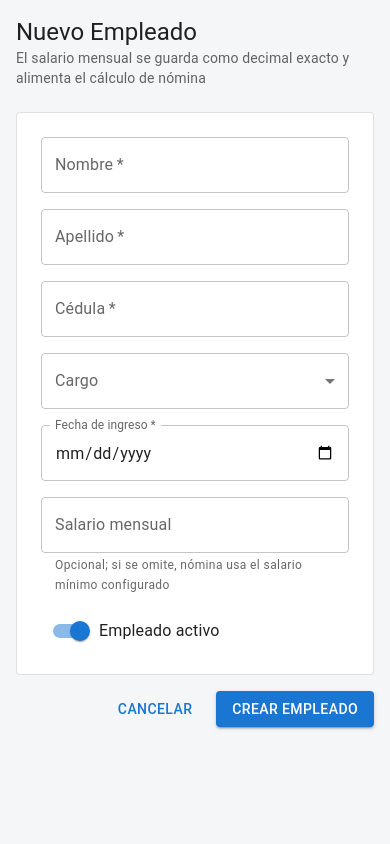
Test: EmpleadoFormPage › muestra el 400 del backend (cédula duplicada en la empresa)
This screenshot has width=390, height=844.
Type "Ana" into the field labelled "Nombre *" at coordinates (195, 165), box [41,137,349,193]
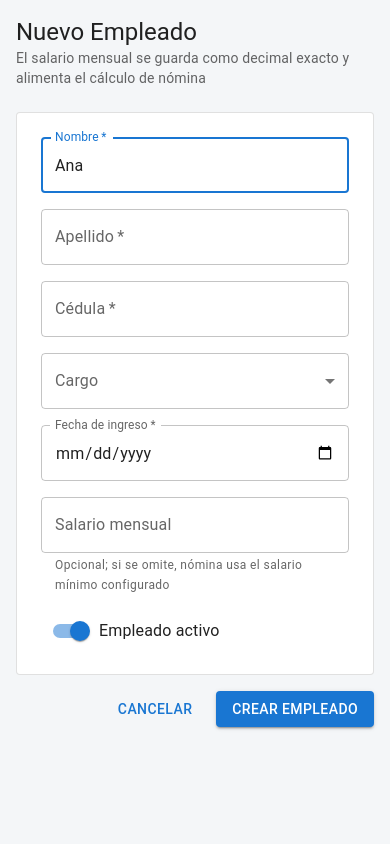
Type "Pérez" into the field labelled "Apellido *" at coordinates (195, 237), box [41,209,349,265]
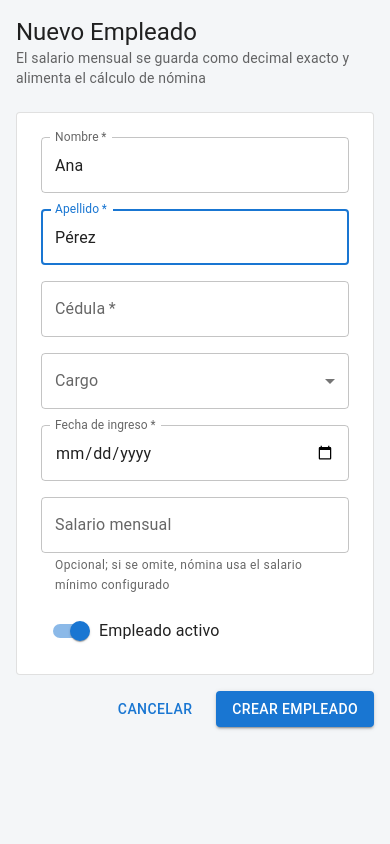
Type "V-12345678" into the field labelled "Cédula *" at coordinates (195, 309), box [41,281,349,337]
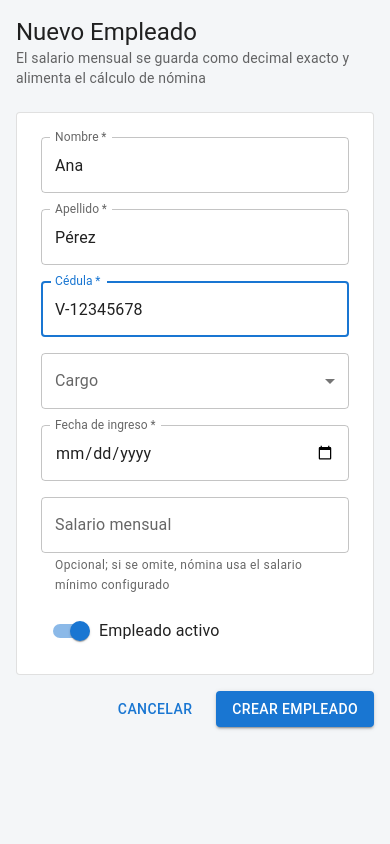
Type "2024-01-15" into the date field labelled "Fecha de ingreso *" at coordinates (195, 453), box [41,425,349,481]
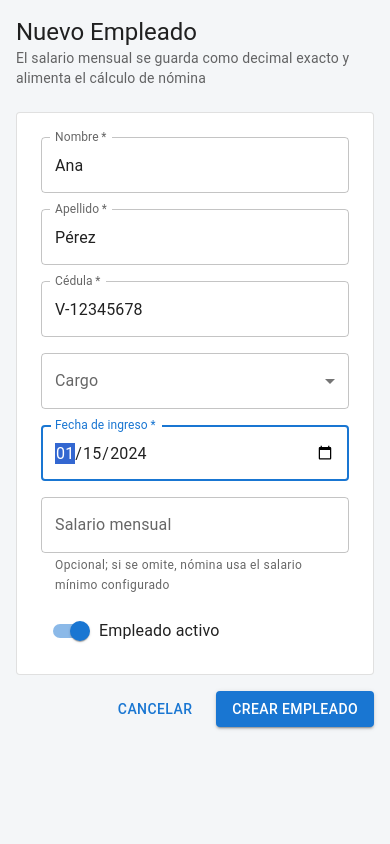
Click the button "Crear empleado" at coordinates (295, 709), box [216,691,374,727]
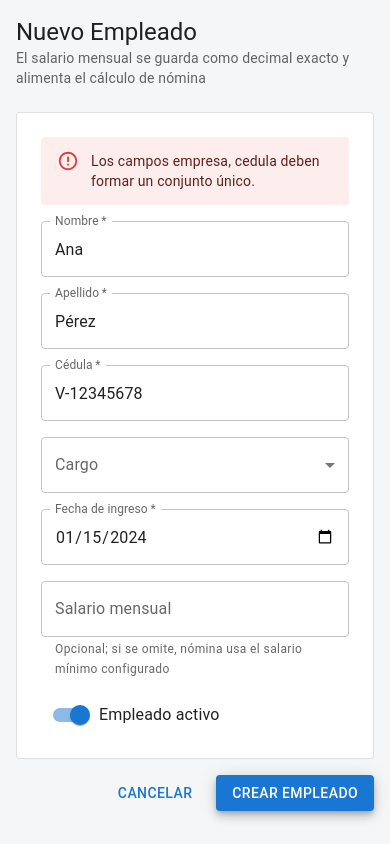
expect the text "Los campos empresa, cedula deben formar un conjunto único." is shown: met, box [91,143,333,199]
